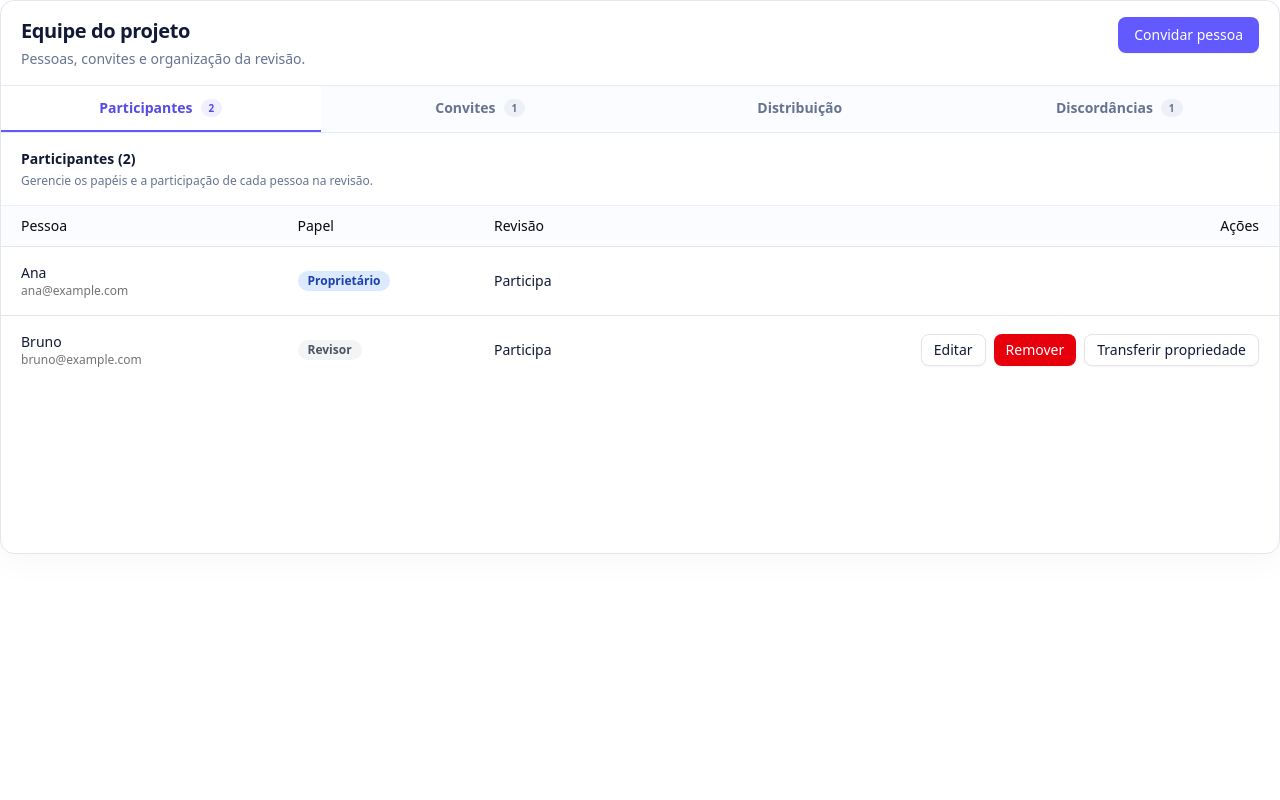
Test case: project team permissions and mutations › returns keyboard focus to Inspecionar discordância do artigo 7 after Escape
This screenshot has width=1280, height=800.
Click the button "Discordâncias 1" at coordinates (1119, 109), box [960,86,1279,132]
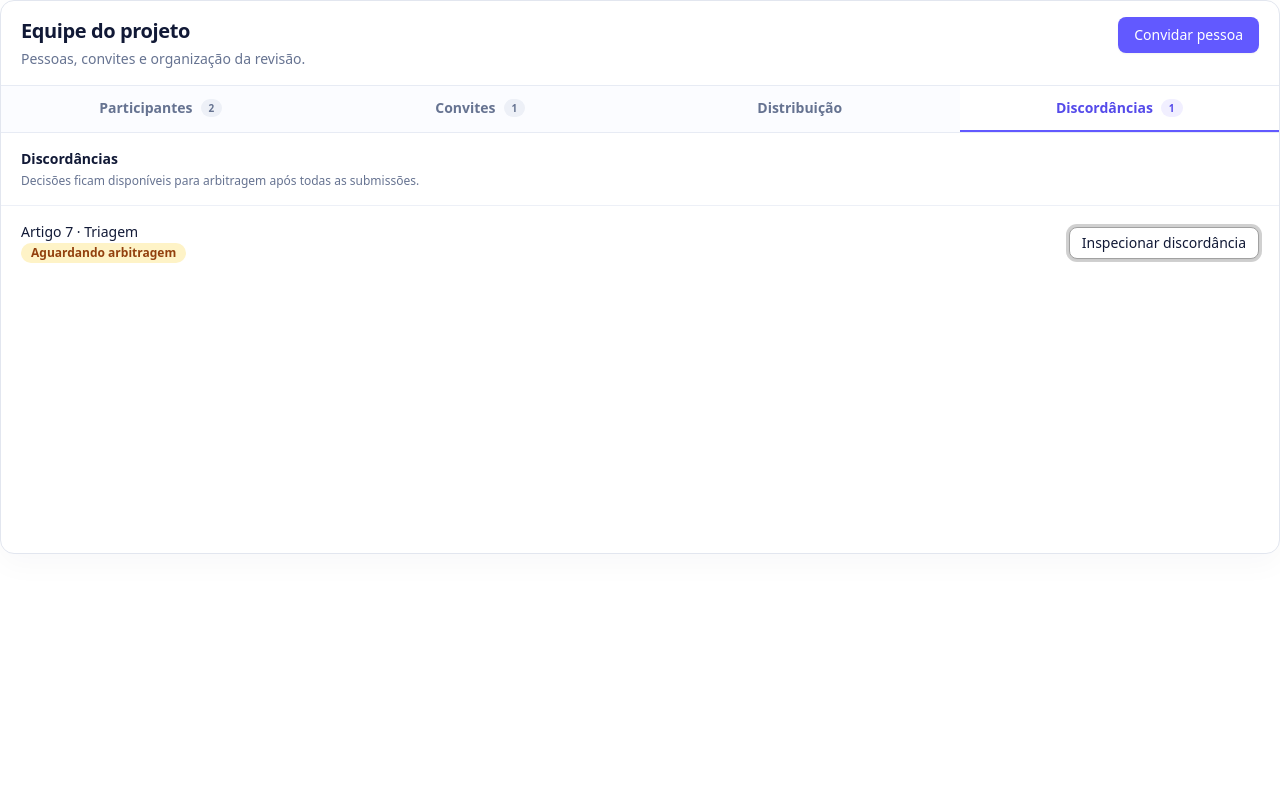
Click the button with aria-label "Inspecionar discordância do artigo 7" at coordinates (1164, 242), box [1069,226,1259,258]
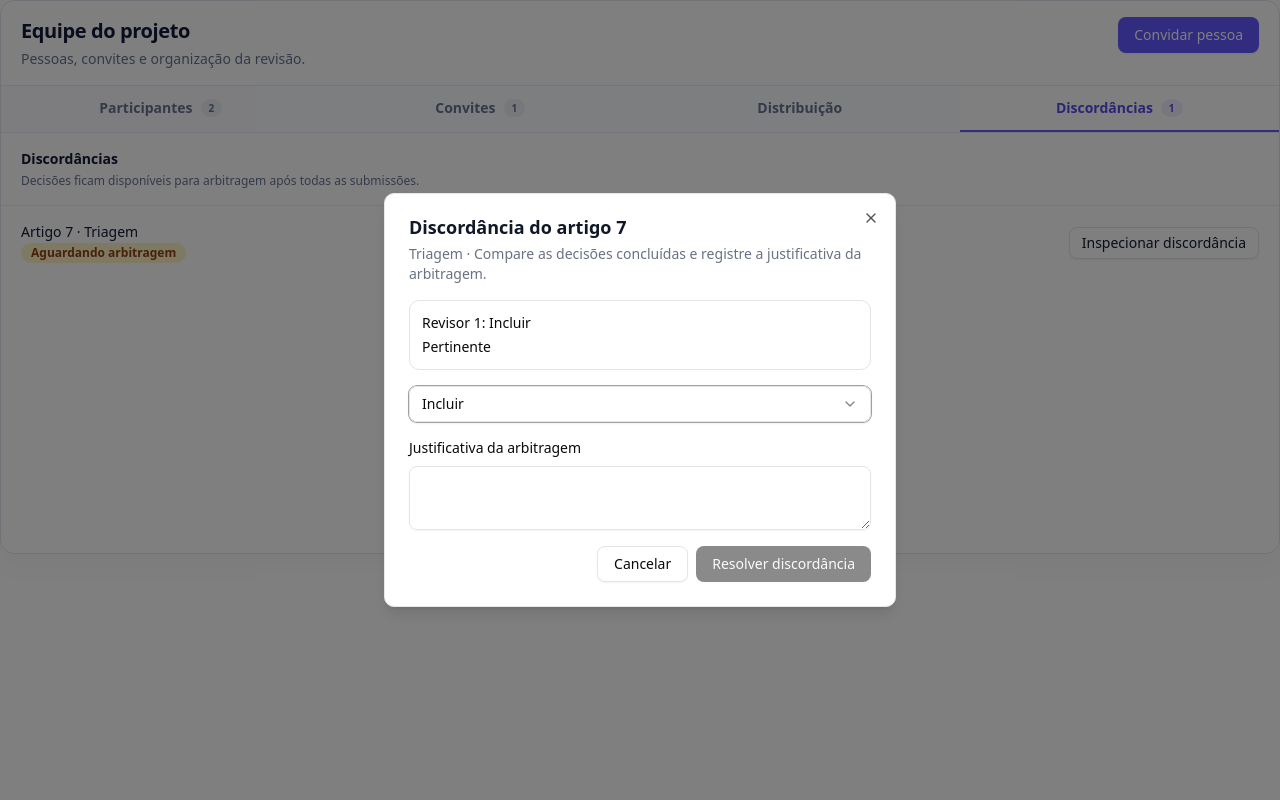
Press Escape in the dialog, box [384,193,896,607]
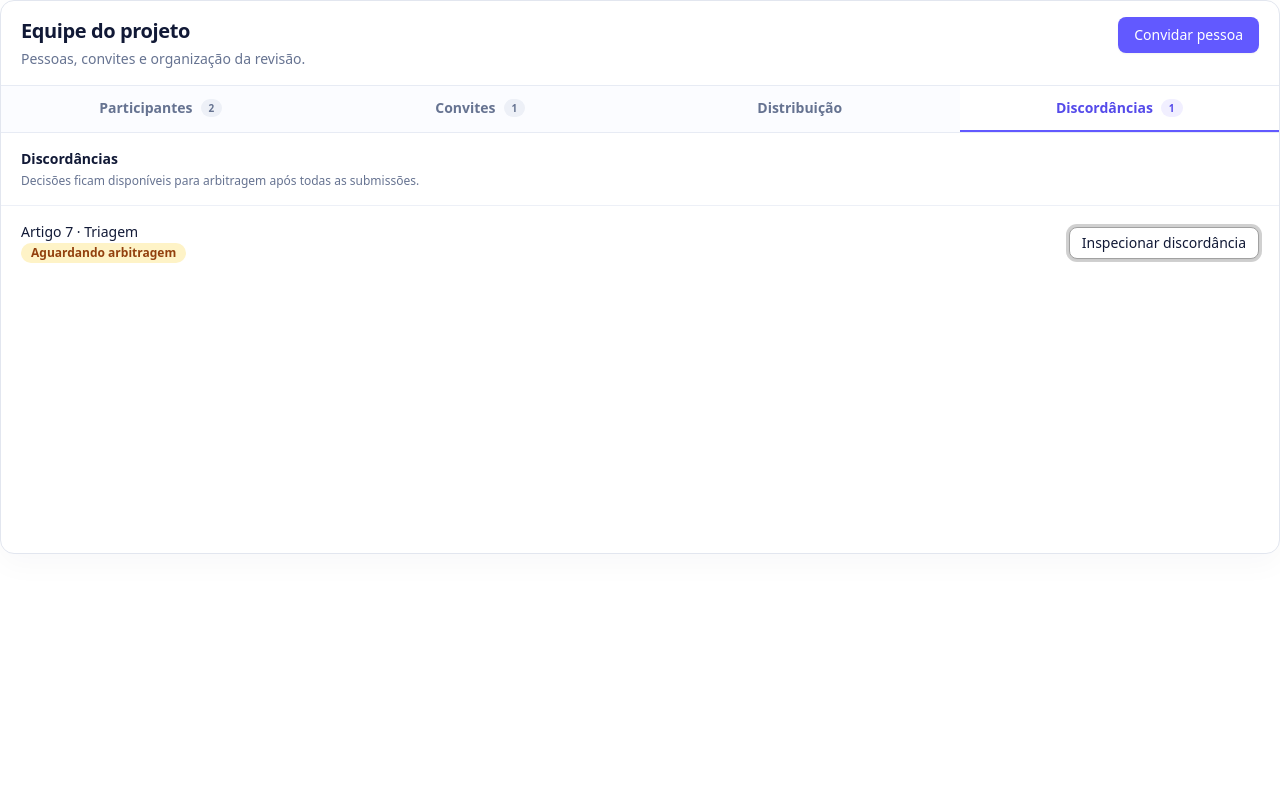
Result: the dialog is gone
